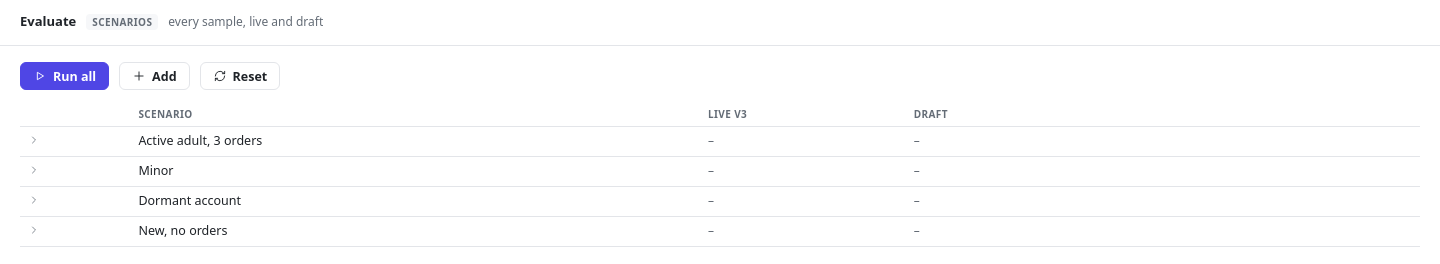
ScenarioPane › says so when nothing changes
Click the button "Run all": [65, 76] box [20,62,109,90]
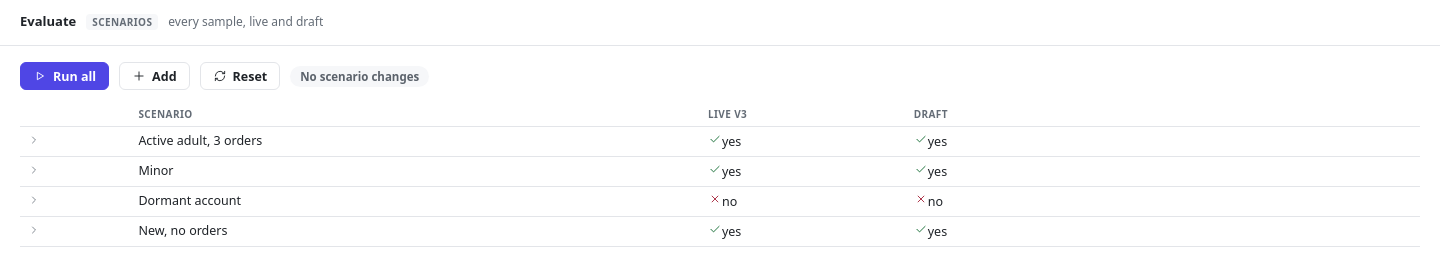
Result: the text "No scenario changes" is shown at [290,66,429,86]
